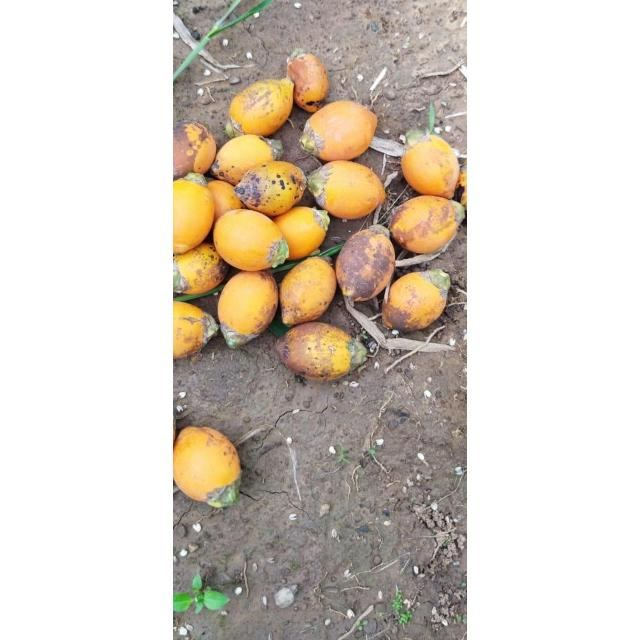good: (173, 426, 241, 506), (276, 322, 368, 380), (300, 101, 378, 161), (217, 271, 280, 345), (213, 210, 287, 272), (335, 227, 395, 303), (382, 269, 451, 333), (278, 257, 338, 325), (388, 196, 458, 254), (233, 162, 307, 216), (228, 78, 294, 138), (400, 134, 460, 198), (316, 162, 380, 218), (212, 136, 282, 187), (174, 176, 216, 254), (273, 206, 329, 260), (173, 244, 229, 296), (173, 300, 219, 360), (287, 49, 329, 112), (174, 120, 218, 180), (207, 180, 243, 224)
